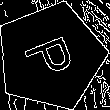P_E: (19, 29, 82, 83)
